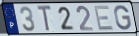2: (75, 5, 95, 32), (57, 6, 76, 31)
3: (19, 6, 36, 32)
E: (93, 5, 115, 32)
G: (114, 4, 133, 31)
T: (36, 4, 53, 33)
